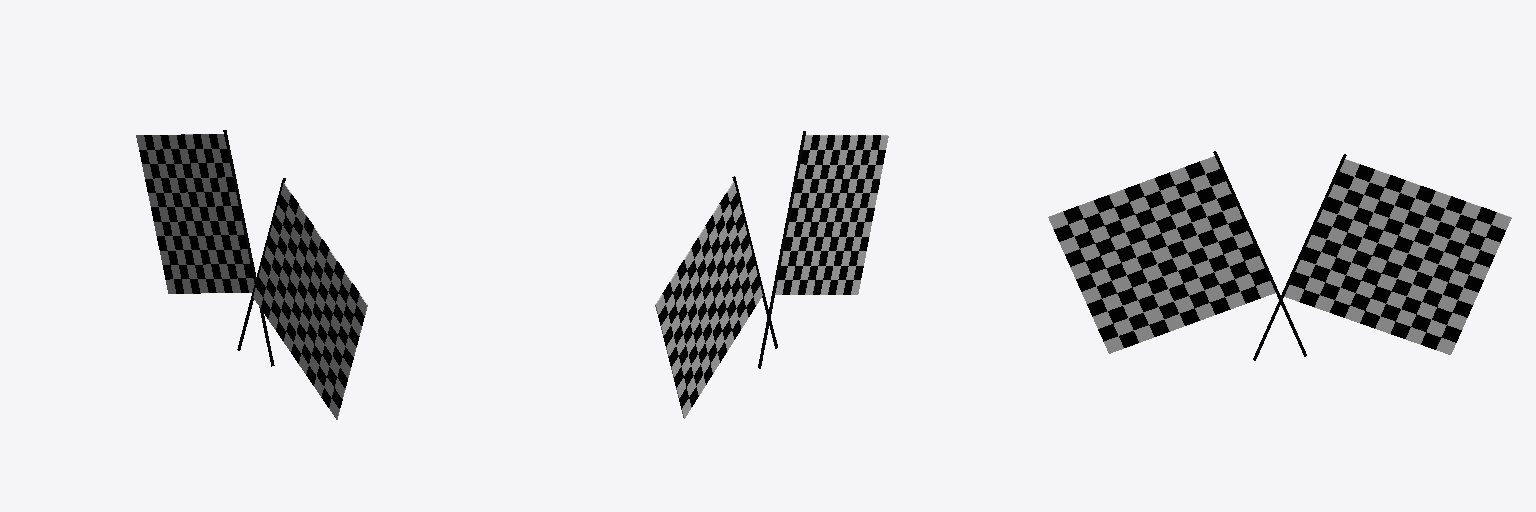
File: to_race.obj
3 views of the same model, side by side, from view 1: azimuth 30°, elevation 25°; view 2: azimuth 150°, elevation 25°; view 3: azimuth 270°, elevation 25° (orthographic).
Visible parts, largest first — view 1: Cylinder; view 2: Cylinder; view 3: Cylinder.
Part boxes in pixels (x1,y1,x2,y2): Cylinder: (136, 130, 367, 419); Cylinder: (655, 131, 888, 418); Cylinder: (1048, 151, 1511, 360).
Bounding box in the file's own units: 0.1581 × 2.74 × 5.63.